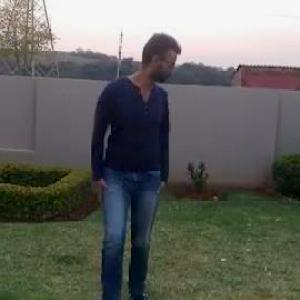follow: (86, 22, 178, 290)
